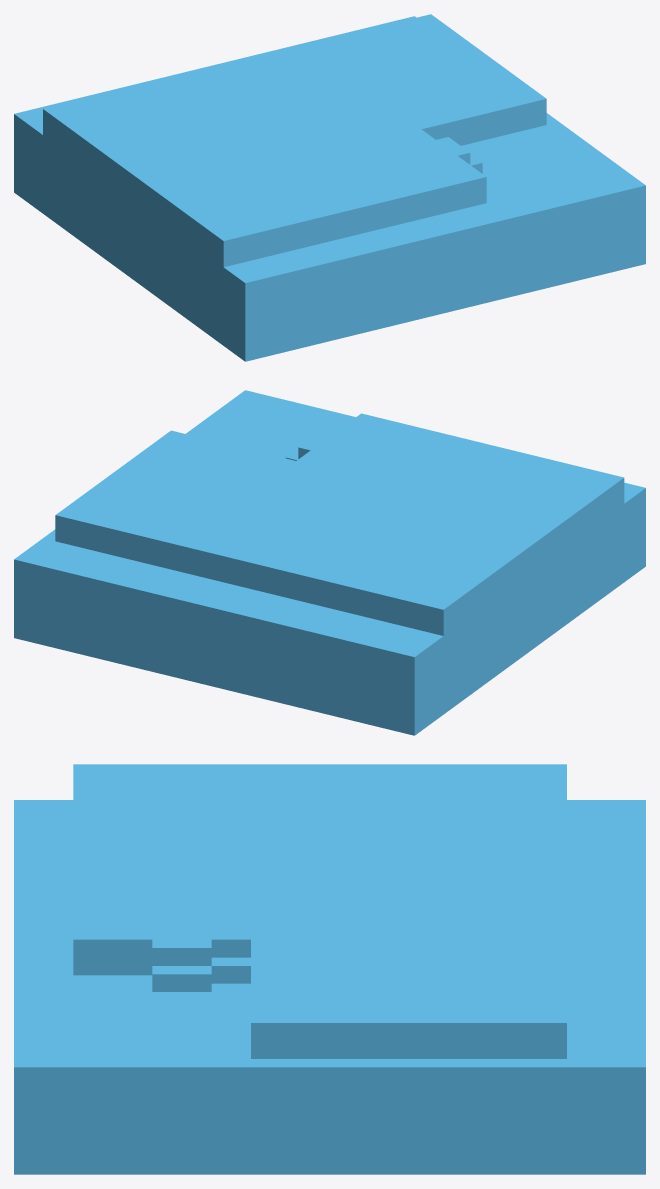
Rendered from ground.gltf.
3 views of the same model, one above another, from view 1: azimuth 30°, elevation 25°; view 2: azimuth 150°, elevation 25°; view 3: azimuth 270°, elevation 25° (orthographic). The views are drawn at different scales.
Parts seen in each view (by area): view 1: ground; view 2: ground; view 3: ground.
Boxes of the visible parts, x1,y1,x2,y2 form: ground: (14, 14, 645, 361); ground: (14, 390, 645, 735); ground: (14, 764, 645, 1174).
Bounding box in the file's own units: 3.2 × 0.8 × 3.2.
1 material, 1 textured.
